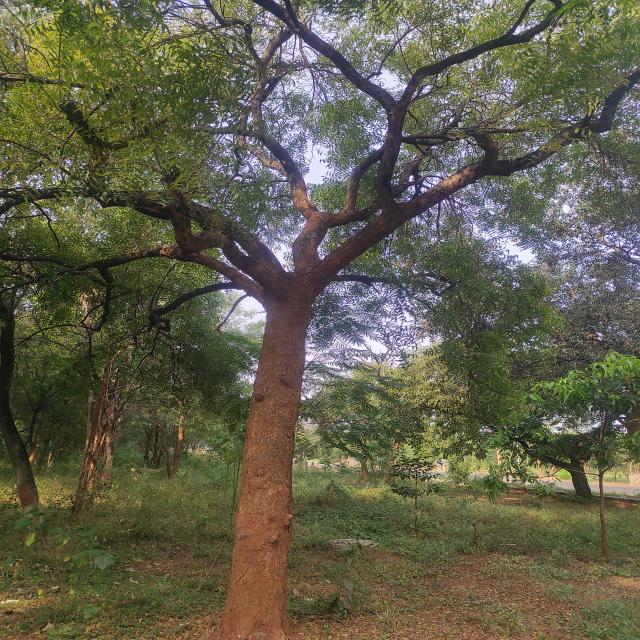Neem Tree: (5, 1, 599, 367)
